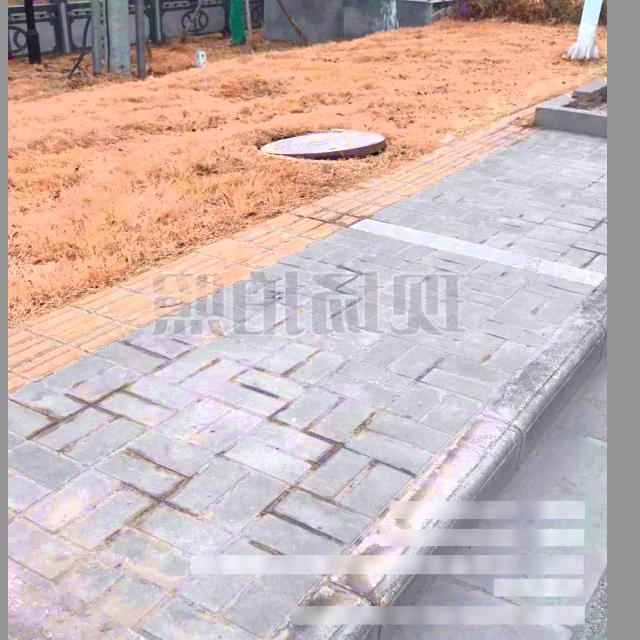uncovered: (261, 127, 389, 161)
